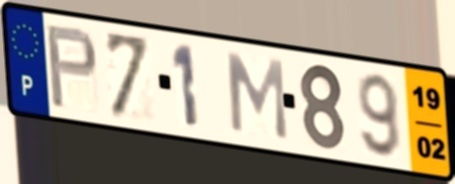1: (170, 43, 202, 131)
7: (104, 28, 153, 122)
8: (297, 60, 348, 153)
9: (355, 71, 403, 161)
M: (225, 50, 290, 145)
P: (43, 23, 100, 112)
